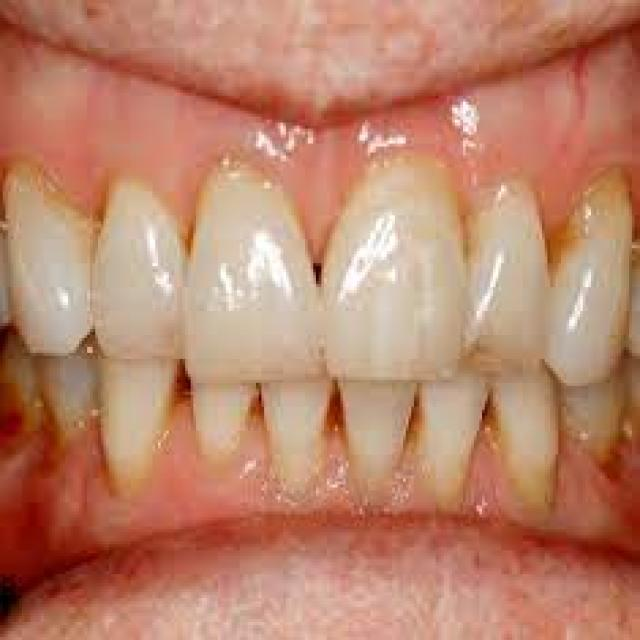tooth: (330, 191, 466, 365), (190, 188, 318, 368), (8, 182, 90, 356), (98, 206, 185, 347), (564, 185, 624, 386), (474, 203, 545, 356), (262, 380, 330, 484), (341, 377, 412, 469), (104, 359, 164, 466), (504, 380, 553, 505), (430, 383, 471, 493), (566, 398, 626, 452), (44, 356, 95, 419), (193, 388, 245, 446), (8, 365, 38, 392)
